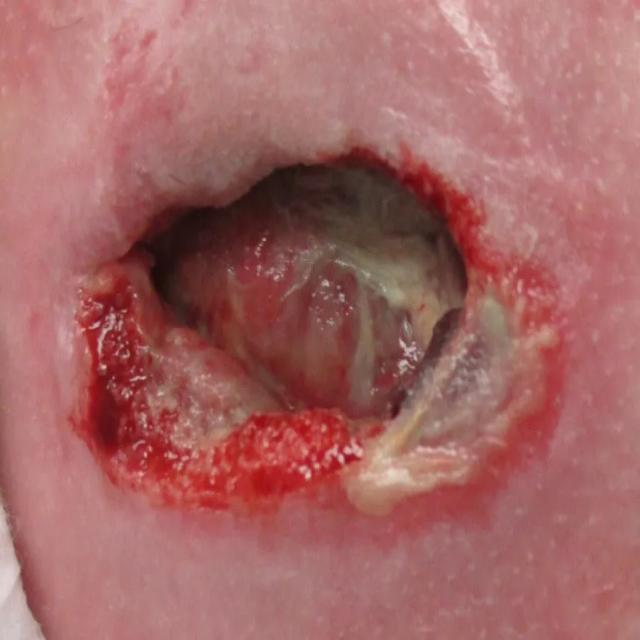stage-4: (77, 155, 565, 539)
